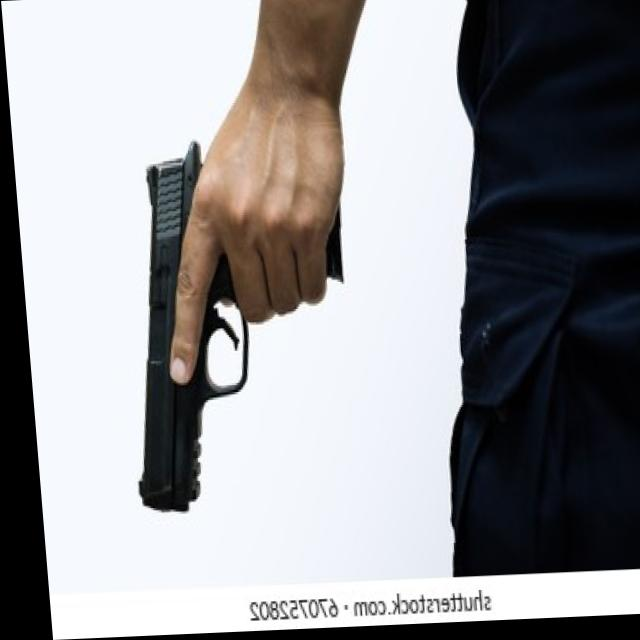handgun: (107, 135, 357, 513)
